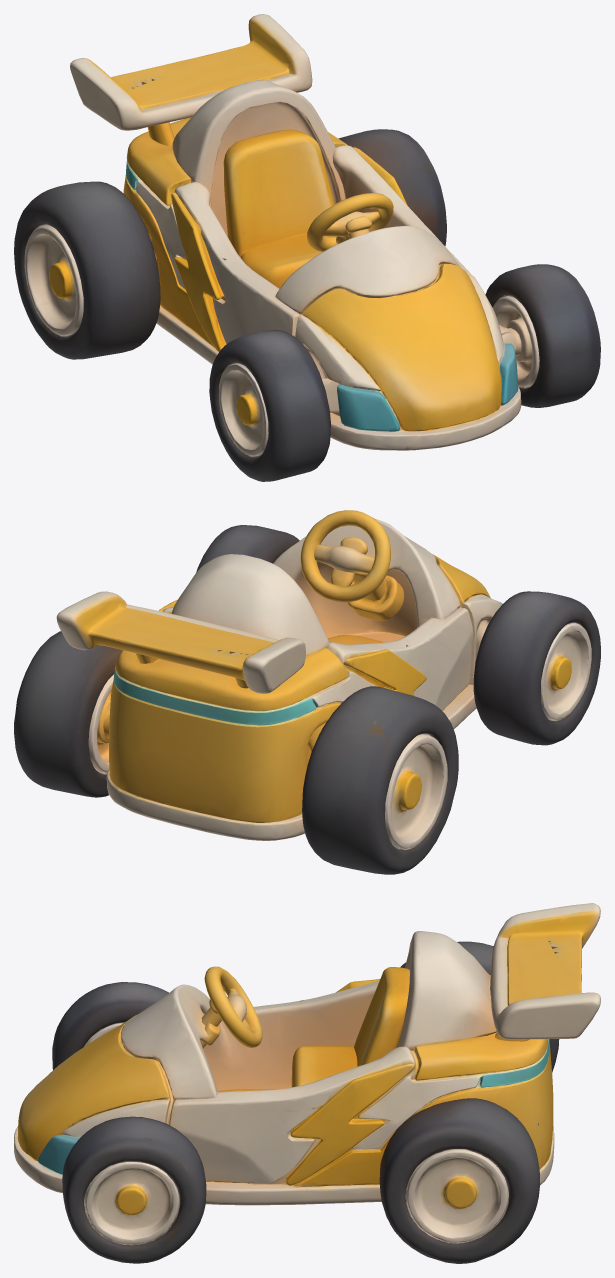
The model's file is bolt-cartoon-runtime.glb.
3 views of the same model, one above another, from view 1: azimuth 30°, elevation 25°; view 2: azimuth 150°, elevation 25°; view 3: azimuth 270°, elevation 25° (orthographic). The views are drawn at different scales.
Parts seen in each view (by area): view 1: model; view 2: model; view 3: model.
Boxes of the visible parts, x1,y1,x2,y2 form: model: (14,14,600,481); model: (14,510,600,874); model: (14,903,600,1263).
Size of the model in its own units: 1.36 by 0.888 by 1.9.
1 material, 1 textured.
